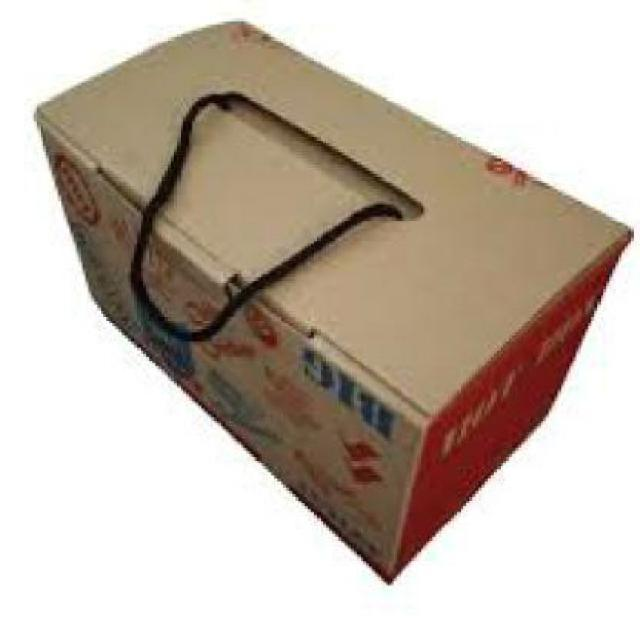box: (25, 12, 638, 625)
